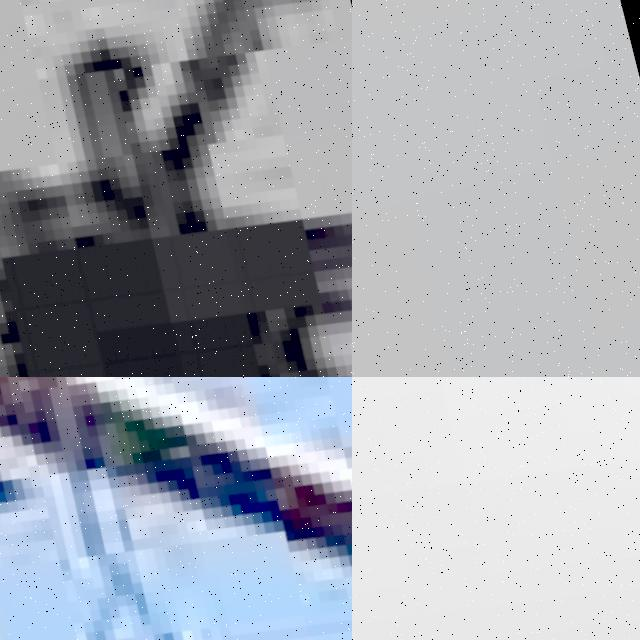drone: (0, 0, 352, 377), (0, 377, 352, 640), (352, 377, 640, 640)
